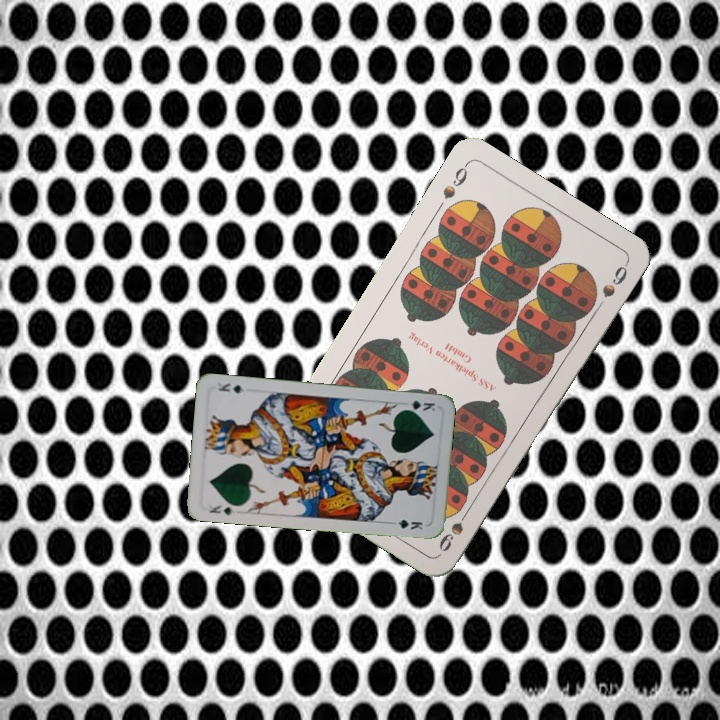GK: (398, 396, 438, 414), (206, 501, 239, 519)
S9: (434, 502, 474, 555), (438, 159, 471, 202)
